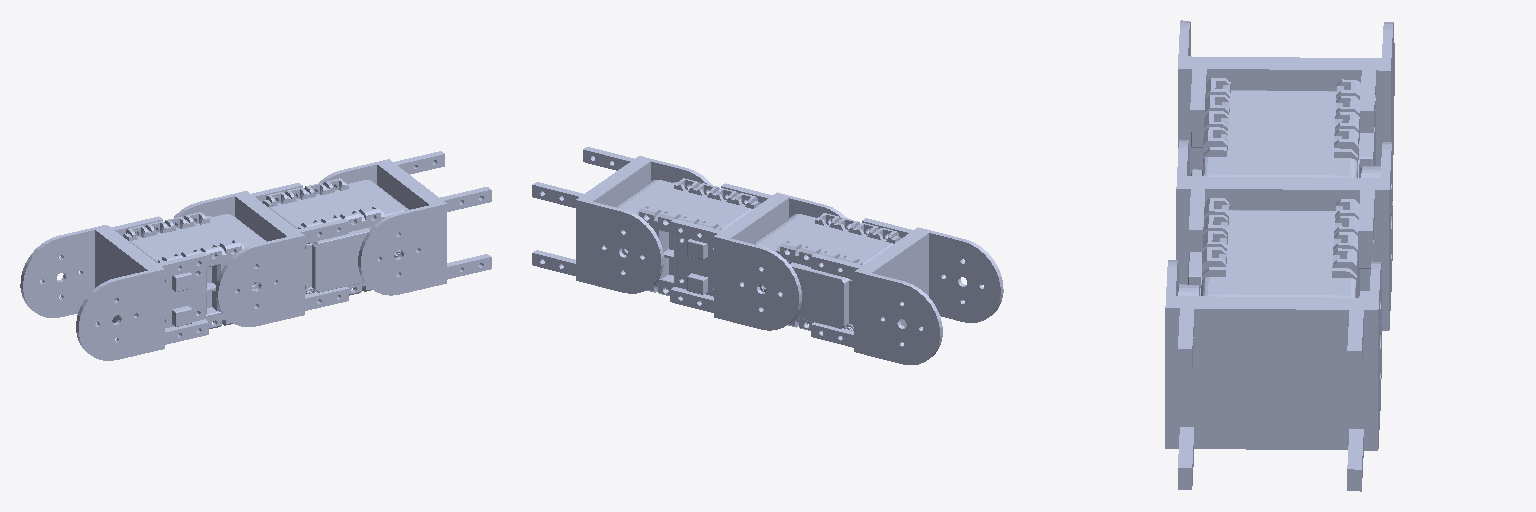
The robot description file, URDF, robot "acps":
<?xml version="1.0" encoding="utf-8"?>
<!-- This URDF was automatically created by SolidWorks to URDF Exporter! Originally created by [author] ([email redacted]) 
     Commit Version: 1.6.0-4-g7f85cfe  Build Version: 1.6.7995.38578
     For more information, please see http://wiki.ros.org/sw_urdf_exporter -->
<robot
  name="acps">
  <link
    name="base_link">
    <inertial>
      <origin
        xyz="0.012611 -6.0679E-09 0.02001"
        rpy="0 0 0" />
      <mass
        value="0.043005" />
      <inertia
        ixx="3.5652E-06"
        ixy="-9.8445E-12"
        ixz="-3.2723E-08"
        iyy="8.7138E-06"
        iyz="-6.3531E-13"
        izz="9.9719E-06" />
    </inertial>
    <visual>
      <origin
        xyz="0 0 0"
        rpy="0 0 0" />
      <geometry>
        <mesh
          filename="package://acps/meshes/base_link.STL" />
      </geometry>
      <material
        name="">
        <color
          rgba="0.79216 0.81961 0.93333 1" />
      </material>
    </visual>
    <collision>
      <origin
        xyz="0 0 0"
        rpy="0 0 0" />
      <geometry>
        <mesh
          filename="package://acps/meshes/base_link.STL" />
      </geometry>
    </collision>
  </link>
  <link
    name="link1">
    <inertial>
      <origin
        xyz="-2.1121E-05 -0.00096642 0.025442"
        rpy="0 0 0" />
      <mass
        value="0.053822" />
      <inertia
        ixx="1.0805E-05"
        ixy="2.4467E-08"
        ixz="-7.0498E-10"
        iyy="1.1924E-05"
        iyz="-3.2716E-08"
        izz="7.1817E-06" />
    </inertial>
    <visual>
      <origin
        xyz="0 0 0"
        rpy="0 0 0" />
      <geometry>
        <mesh
          filename="package://acps/meshes/link1.STL" />
      </geometry>
      <material
        name="">
        <color
          rgba="0.79216 0.81961 0.93333 1" />
      </material>
    </visual>
    <collision>
      <origin
        xyz="0 0 0"
        rpy="0 0 0" />
      <geometry>
        <mesh
          filename="package://acps/meshes/link1.STL" />
      </geometry>
    </collision>
  </link>
  <joint
    name="theta1"
    type="continuous">
    <origin
      xyz="0 0 0.0398"
      rpy="0 0 0" />
    <parent
      link="base_link" />
    <child
      link="link1" />
    <axis
      xyz="0 0 1" />
  </joint>
  <link
    name="link2">
    <inertial>
      <origin
        xyz="0.038557 -4.5964E-09 6.8917E-05"
        rpy="0 0 0" />
      <mass
        value="0.055878" />
      <inertia
        ixx="7.9123E-06"
        ixy="9.8443E-12"
        ixz="-3.2723E-08"
        iyy="1.3121E-05"
        iyz="6.0253E-13"
        izz="1.2397E-05" />
    </inertial>
    <visual>
      <origin
        xyz="0 0 0"
        rpy="0 0 0" />
      <geometry>
        <mesh
          filename="package://acps/meshes/link2.STL" />
      </geometry>
      <material
        name="">
        <color
          rgba="0.79216 0.81961 0.93333 1" />
      </material>
    </visual>
    <collision>
      <origin
        xyz="0 0 0"
        rpy="0 0 0" />
      <geometry>
        <mesh
          filename="package://acps/meshes/link2.STL" />
      </geometry>
    </collision>
  </link>
  <joint
    name="theta2"
    type="continuous">
    <origin
      xyz="0 0 0.0435"
      rpy="1.5708 0 -0.021846" />
    <parent
      link="link1" />
    <child
      link="link2" />
    <axis
      xyz="0 0 -1" />
    <limit
      lower="0"
      upper="0"
      effort="0"
      velocity="0" />
  </joint>
  <link
    name="link3">
    <inertial>
      <origin
        xyz="0.038557 4.7423E-09 0.00093108"
        rpy="0 0 0" />
      <mass
        value="0.055878" />
      <inertia
        ixx="7.9123E-06"
        ixy="-9.8431E-12"
        ixz="3.2723E-08"
        iyy="1.3121E-05"
        iyz="6.6801E-13"
        izz="1.2397E-05" />
    </inertial>
    <visual>
      <origin
        xyz="0 0 0"
        rpy="0 0 0" />
      <geometry>
        <mesh
          filename="package://acps/meshes/link3.STL" />
      </geometry>
      <material
        name="">
        <color
          rgba="0.79216 0.81961 0.93333 1" />
      </material>
    </visual>
    <collision>
      <origin
        xyz="0 0 0"
        rpy="0 0 0" />
      <geometry>
        <mesh
          filename="package://acps/meshes/link3.STL" />
      </geometry>
    </collision>
  </link>
  <joint
    name="theta3"
    type="continuous">
    <origin
      xyz="0.05855 0 0"
      rpy="0 0 0" />
    <parent
      link="link2" />
    <child
      link="link3" />
    <axis
      xyz="0 0 -1" />
    <limit
      lower="0"
      upper="0"
      effort="0"
      velocity="0" />
  </joint>
  <link
    name="link4">
    <inertial>
      <origin
        xyz="0.013893 -1.8041E-15 0.001"
        rpy="0 0 0" />
      <mass
        value="0.012873" />
      <inertia
        ixx="4.3471E-06"
        ixy="2.6012E-20"
        ixz="-4.8142E-21"
        iyy="4.4076E-06"
        iyz="-1.7487E-20"
        izz="2.4256E-06" />
    </inertial>
    <visual>
      <origin
        xyz="0 0 0"
        rpy="0 0 0" />
      <geometry>
        <mesh
          filename="package://acps/meshes/link4.STL" />
      </geometry>
      <material
        name="">
        <color
          rgba="0.79216 0.81961 0.93333 1" />
      </material>
    </visual>
    <collision>
      <origin
        xyz="0 0 0"
        rpy="0 0 0" />
      <geometry>
        <mesh
          filename="package://acps/meshes/link4.STL" />
      </geometry>
    </collision>
  </link>
  <joint
    name="theta4"
    type="continuous">
    <origin
      xyz="0.05855 0 0"
      rpy="0 0 0" />
    <parent
      link="link3" />
    <child
      link="link4" />
    <axis
      xyz="0 0 -1" />
    <limit
      lower="0"
      upper="0"
      effort="0"
      velocity="0" />
  </joint>
</robot>

--- What the picture shows (computed from the rendered views, not written in the file) ---
3 views of the same robot in one strip: view 1: azimuth 30°, elevation 25°; view 2: azimuth 150°, elevation 25°; view 3: azimuth 270°, elevation 25° (orthographic).
Robot: acps — 5 links, 4 joints (4 continuous); root link base_link; default pose: every joint at zero.
Links seen in each view (by area): view 1: link2, link3, link4; view 2: link2, link3, link4; view 3: link4, link3, link2.
Boxes of the visible links, bbox=[...] form: link2: bbox=[20, 212, 275, 360]; link3: bbox=[173, 178, 417, 326]; link4: bbox=[313, 151, 491, 295]; link2: bbox=[743, 213, 1003, 364]; link3: bbox=[605, 178, 850, 330]; link4: bbox=[532, 147, 711, 293]; link4: bbox=[1165, 260, 1381, 491]; link3: bbox=[1176, 140, 1392, 330]; link2: bbox=[1178, 20, 1394, 177].
Bounding box of the posed robot: 0.1739 × 0.0473 × 0.032 m (x, y, z).
Meshes: 5 distinct files referenced, 3 mesh visuals loaded (3 binary STL); not drawn: 2 (reference not matched to a file when rendering).